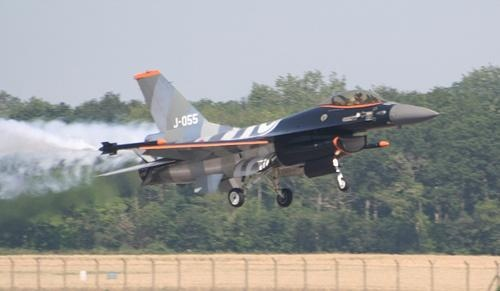aeroplane: (86, 62, 443, 210)
